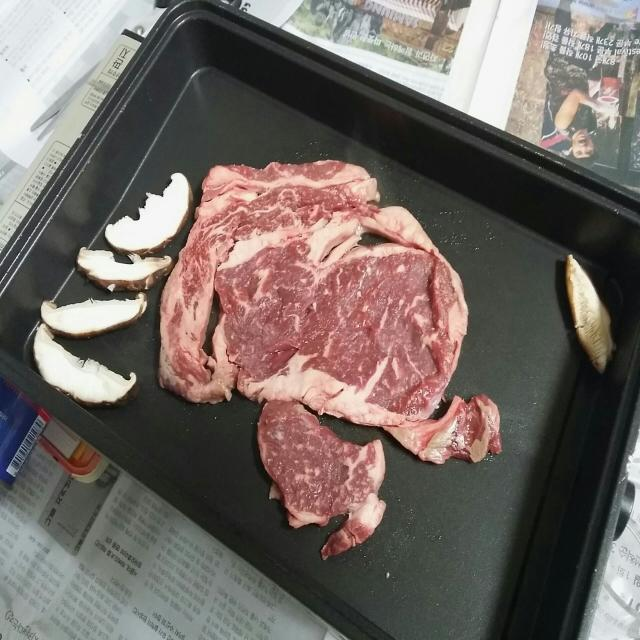beef: (199, 147, 430, 377), (262, 403, 388, 535)
